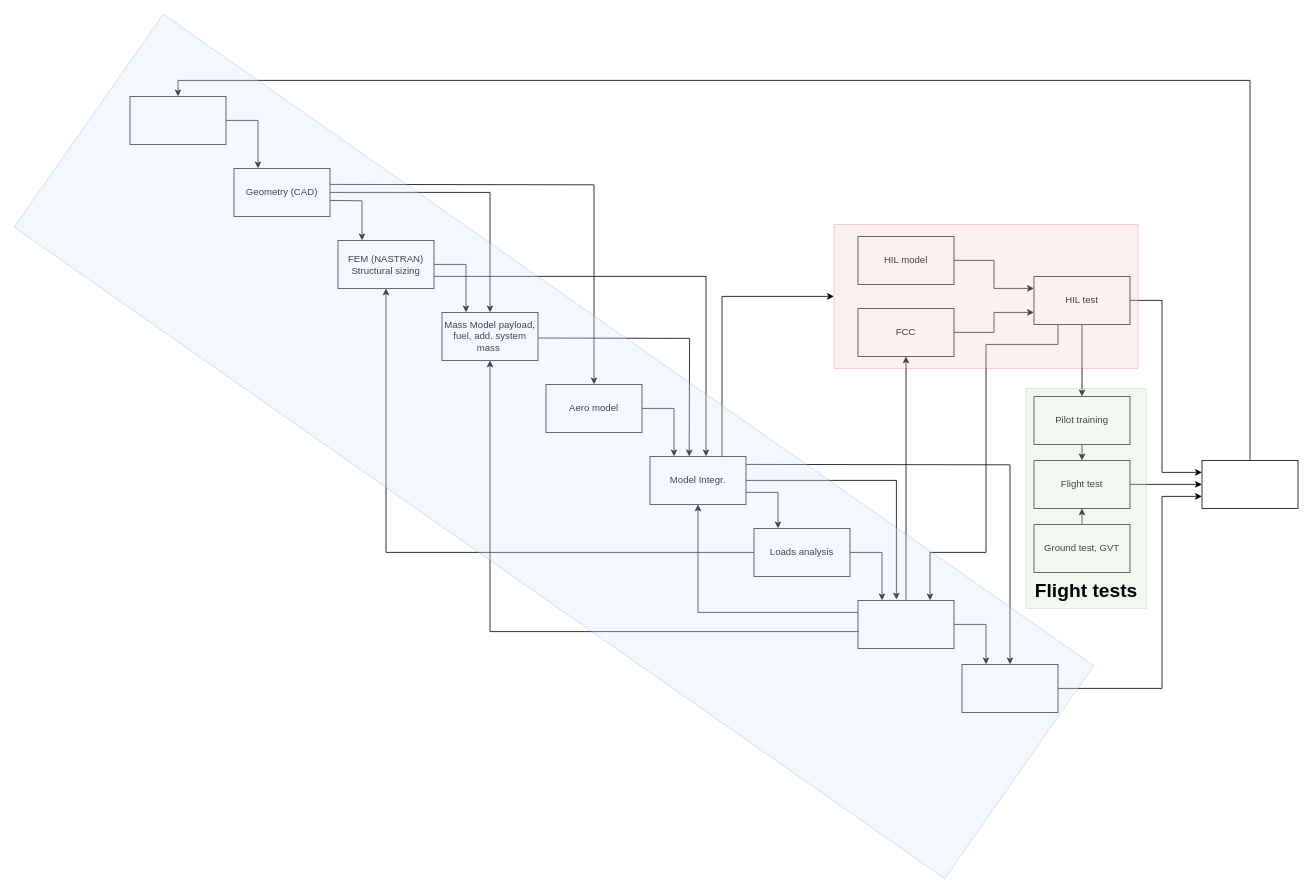
Image size: 1313x894. Some labels were removed from this diagram. Here are the shapes that lost their labels. From the top down, the centre of each, then its label:
point 177,120: CPACS
point 985,296: HIL tests
point 553,446: MDO toolchain
point 1249,484: Lessons learnt
point 905,624: Ctrl Design FCS HQ assessment Flutter
point 1009,688: Mission Analysis
